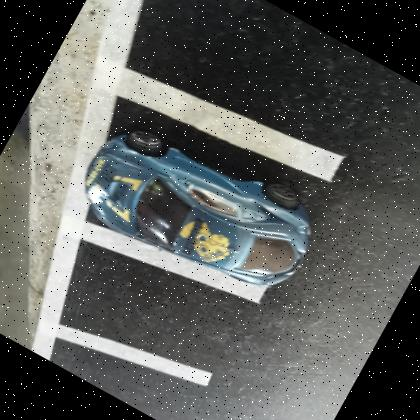Car: (84, 128, 311, 288)
